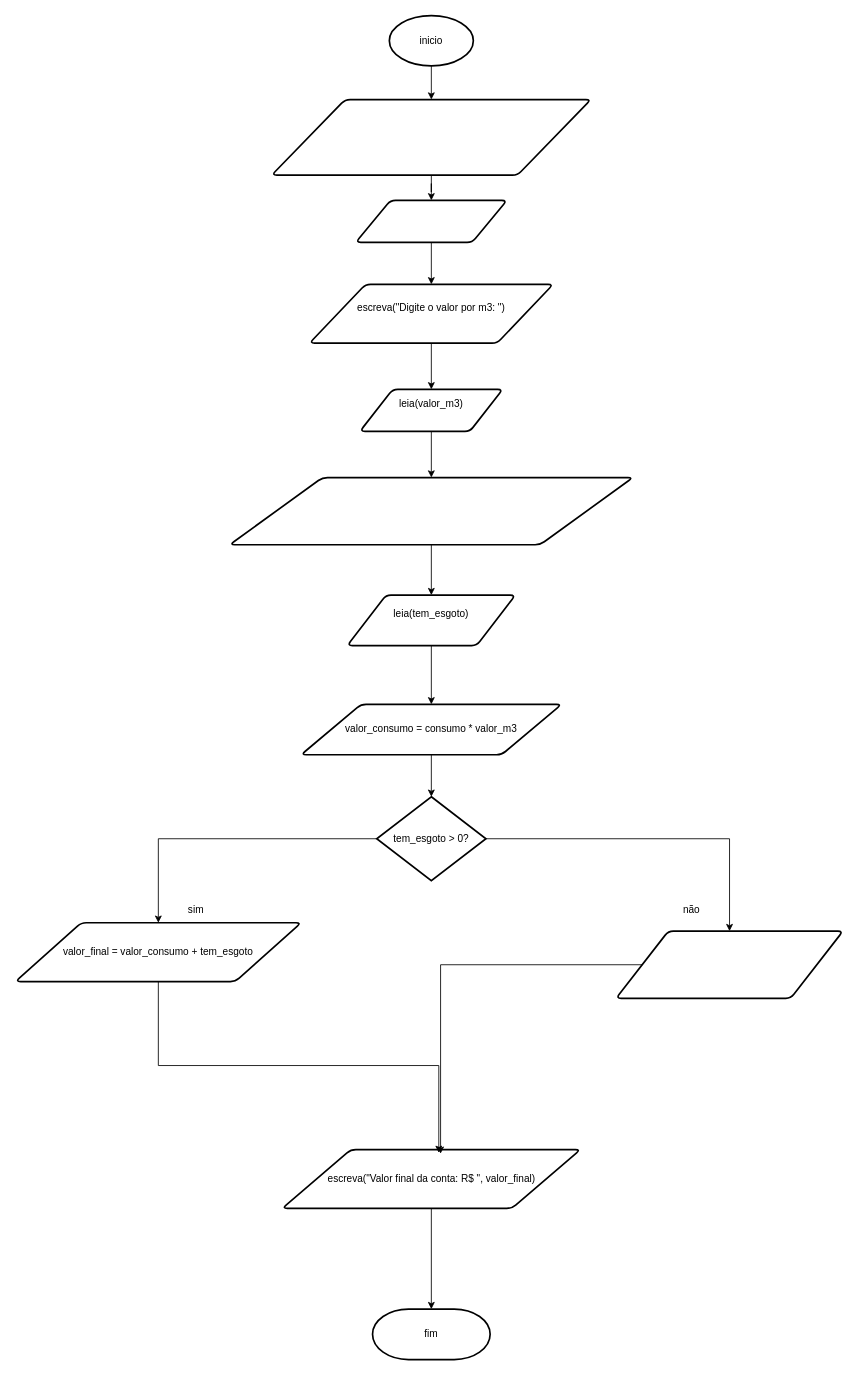
The diagram is 858 pixels wide and 1374 high, and some of its shapes have lost their labels. The box of each missing label's shape, as (x1, y1, x2, y2) in pixels:
escreva("Digite o consumo de agua em m3: "): (270, 98, 591, 176)
escreva("Digite o valor da taxa de esgoto (0 se nao houver): "): (228, 476, 633, 545)
leia(consumo): (354, 199, 507, 243)
valor_final = valor_consumo: (615, 930, 843, 999)
